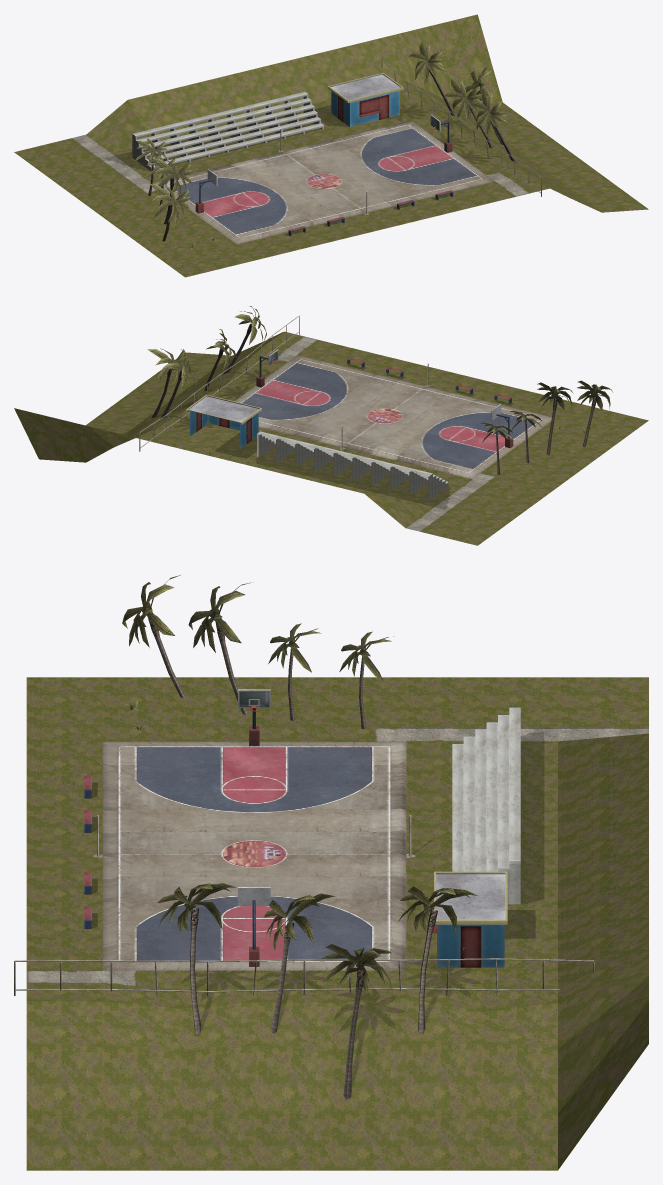
Rendered from court_laperla_mesh.fbx.
3 renders of one model, top to bottom at view 1: azimuth 30°, elevation 25°; view 2: azimuth 150°, elevation 25°; view 3: azimuth 270°, elevation 25°, orthographic. The views are drawn at different scales.
Parts seen in each view (by area): view 1: court_laperla_mesh; view 2: court_laperla_mesh; view 3: court_laperla_mesh.
Part boxes in pixels (x1,y1,x2,y2): court_laperla_mesh: (14, 14, 648, 277); court_laperla_mesh: (14, 306, 648, 545); court_laperla_mesh: (14, 575, 648, 1170).
Size of the model in its own units: 180 by 41.6 by 117.
